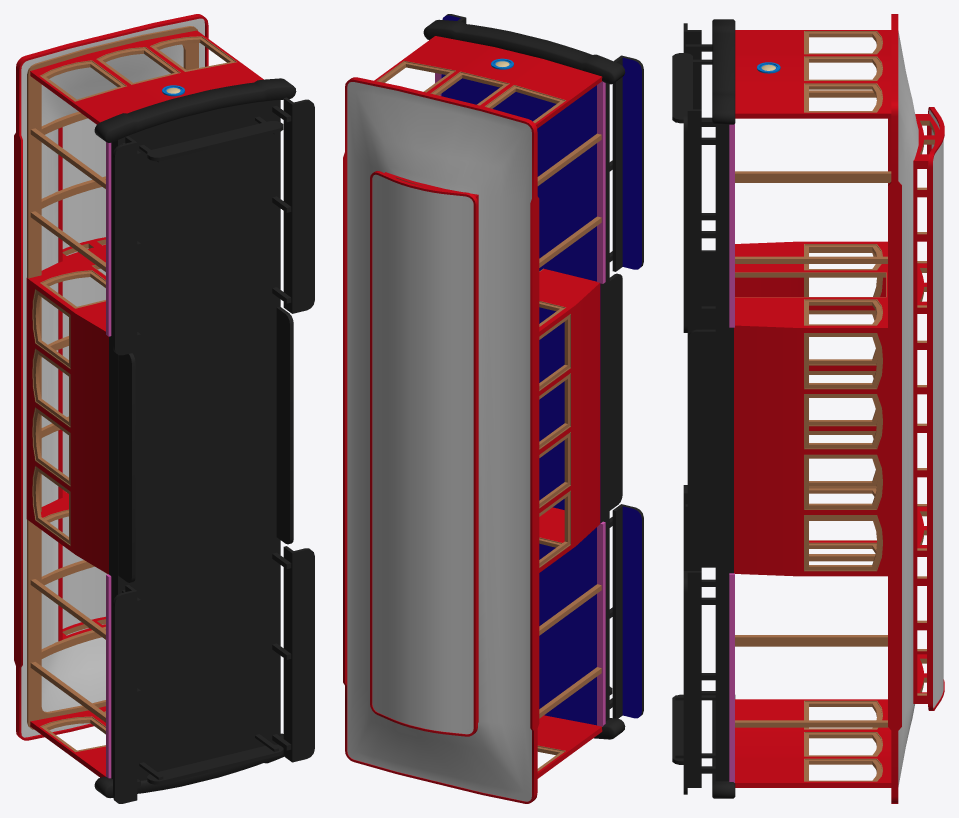
File: CableCar_01_LOD1.fbx
3 renders of one model, left to right at view 1: azimuth 30°, elevation 25°; view 2: azimuth 150°, elevation 25°; view 3: azimuth 270°, elevation 25°, orthographic. The views are drawn at different scales.
Parts seen in each view (by area): view 1: CableCar_01_LOD1; view 2: CableCar_01_LOD1; view 3: CableCar_01_LOD1.
Boxes of the visible parts, bbox=[...] form: CableCar_01_LOD1: bbox=[14, 14, 314, 803]; CableCar_01_LOD1: bbox=[343, 14, 643, 803]; CableCar_01_LOD1: bbox=[672, 14, 944, 803].
Bounding box in the file's own units: 3 × 9.81 × 3.43.
